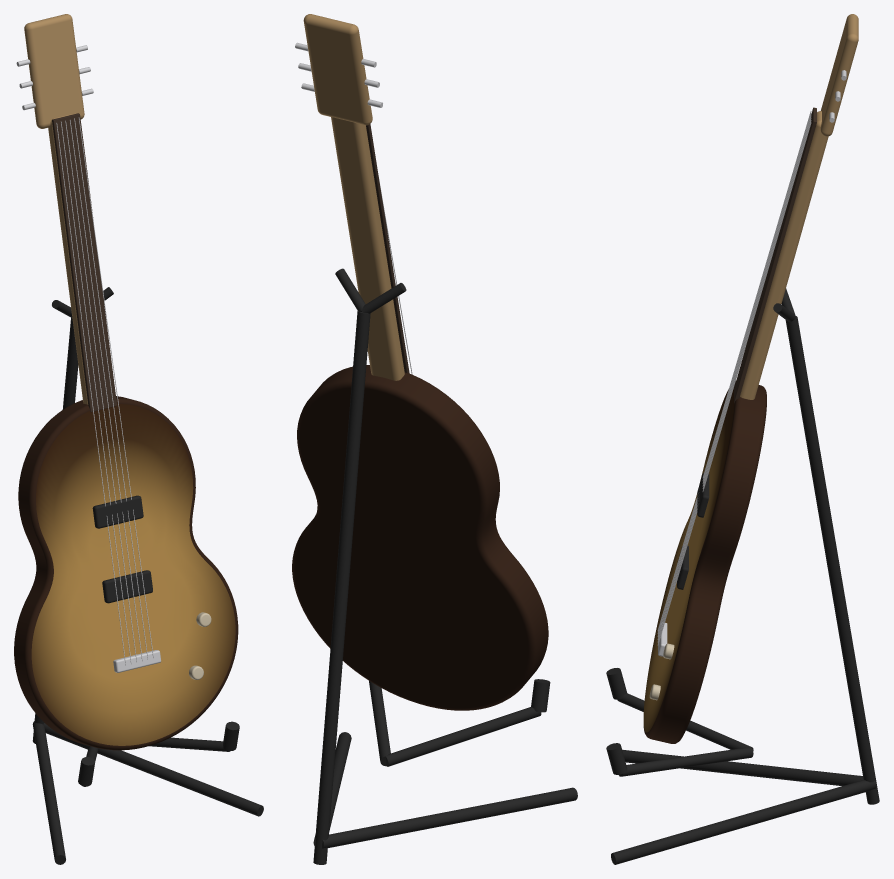
The model's file is guitar.glb.
The picture shows the model from 3 angles, left to right: view 1: azimuth 30°, elevation 25°; view 2: azimuth 150°, elevation 25°; view 3: azimuth 270°, elevation 25°; orthographic projection. The views are drawn at different scales.
Visible parts, largest first — view 1: guitar_body, guitar; view 2: guitar_body, guitar; view 3: guitar_body, guitar.
Part boxes in pixels (x1=…): guitar_body: x1=14, y1=14, x2=238, y2=750; guitar: x1=32, y1=287, x2=263, y2=864; guitar_body: x1=292, y1=14, x2=548, y2=710; guitar: x1=313, y1=268, x2=577, y2=864; guitar_body: x1=643, y1=14, x2=858, y2=743; guitar: x1=606, y1=288, x2=879, y2=864.
Size of the model in its own units: 0.38 by 1.27 by 0.3996.
